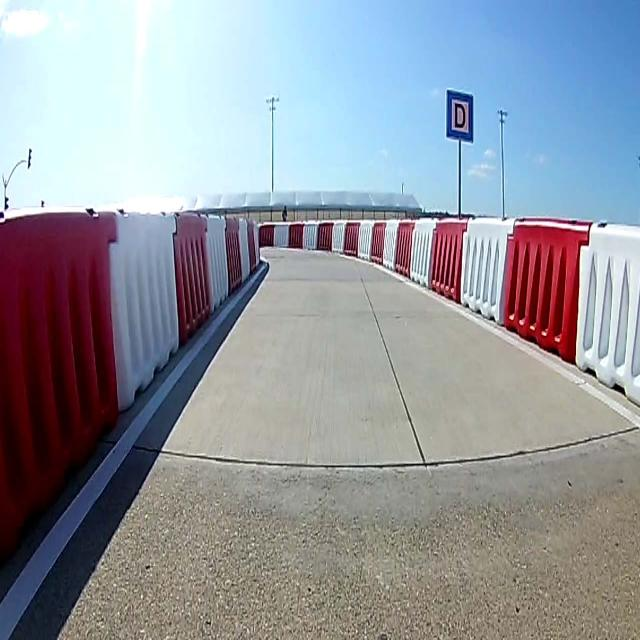durak: (446, 89, 473, 143)
